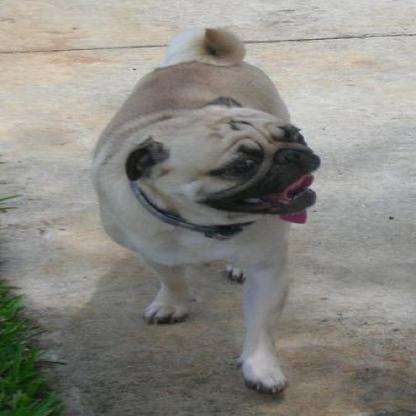pug: (85, 25, 320, 396)
